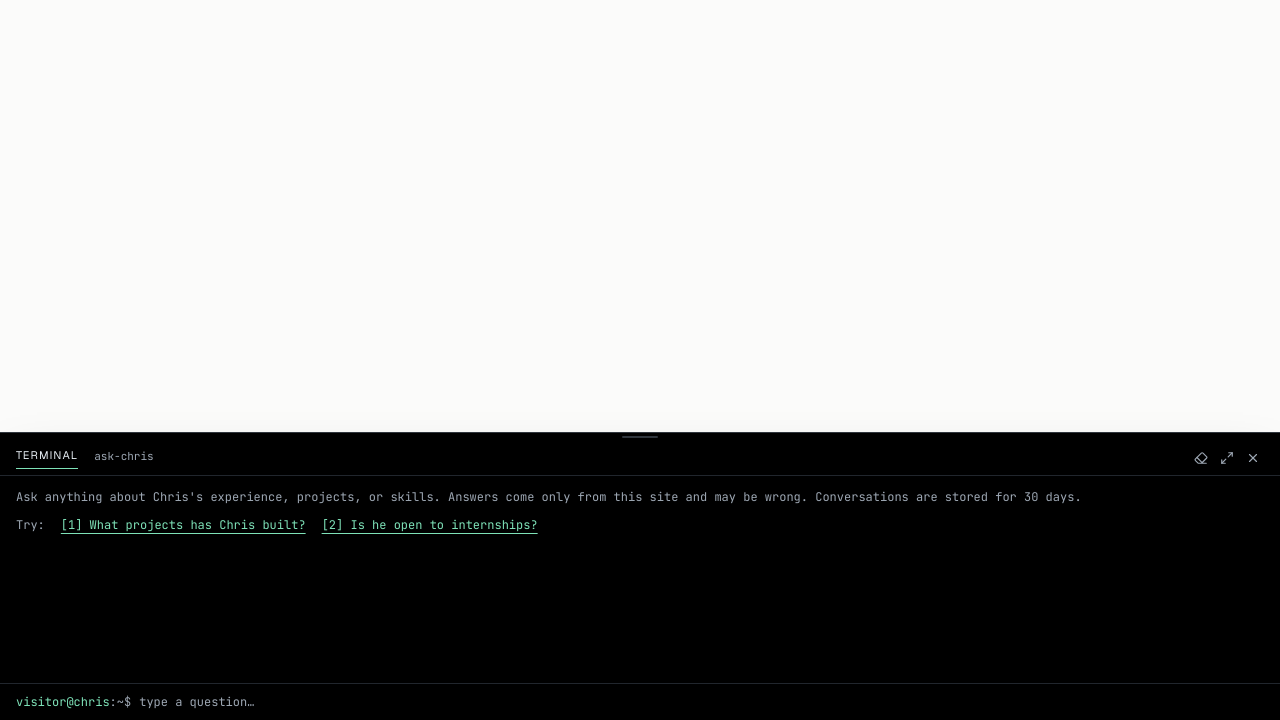
ChatTerminal › clear empties the transcript and opens a new session
The width and height of the screenshot is (1280, 720).
Type "FastAPI?" into the field named "Ask a question about Chris". click: (702, 702)
box: [139,694,1264,710]
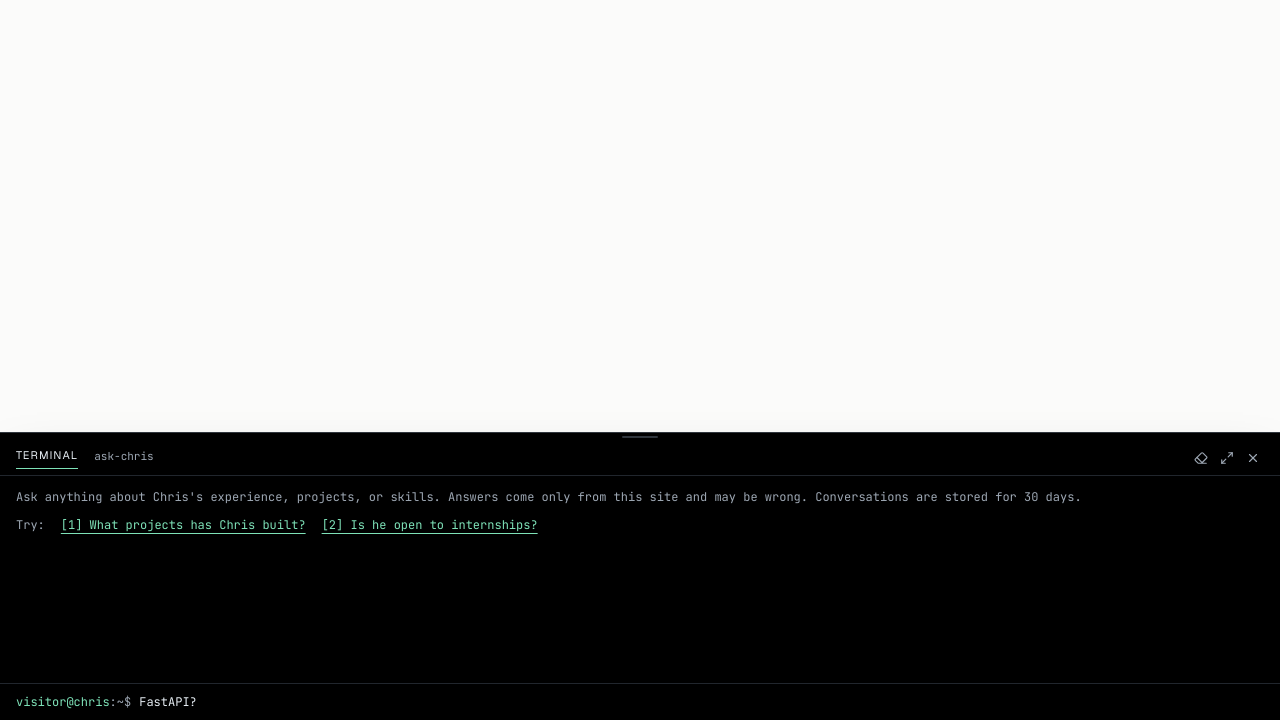
Submit the form, box [0,683,1279,719]
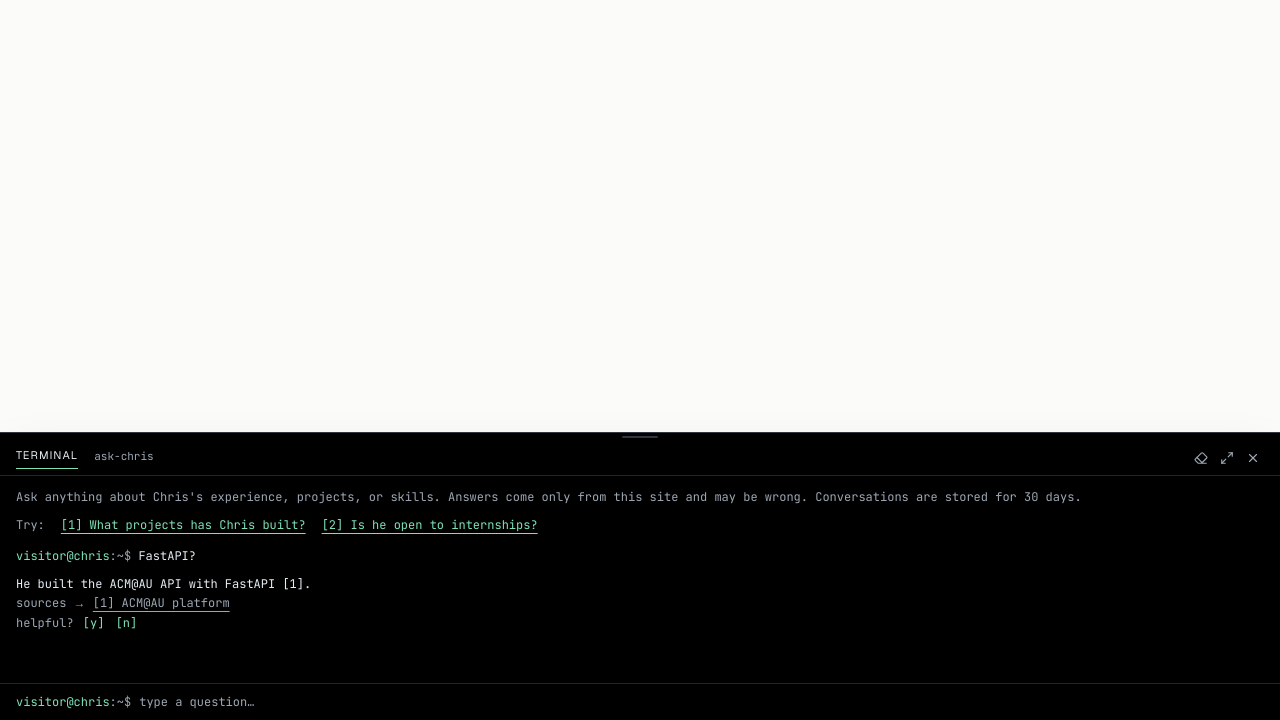
Click the button named "Clear and start a new session". click: click(1201, 458)
box: [1190,447,1212,469]
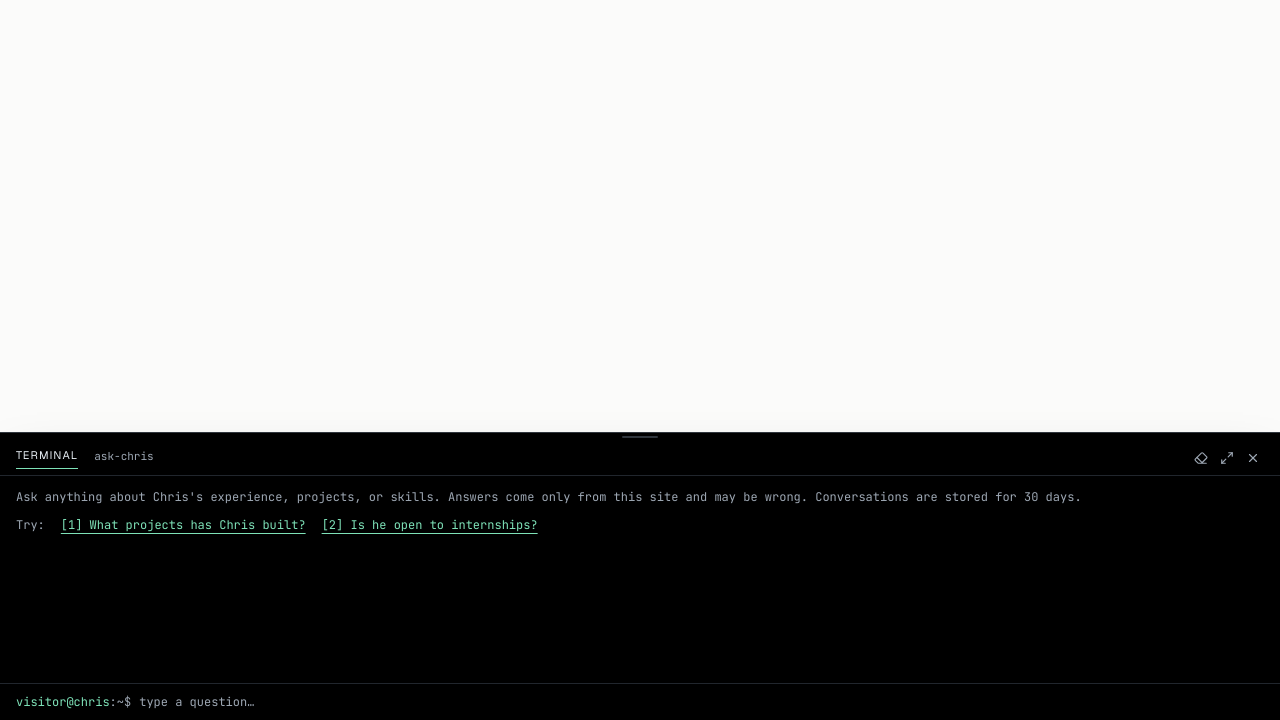
Check: the text "FastAPI?" is gone
